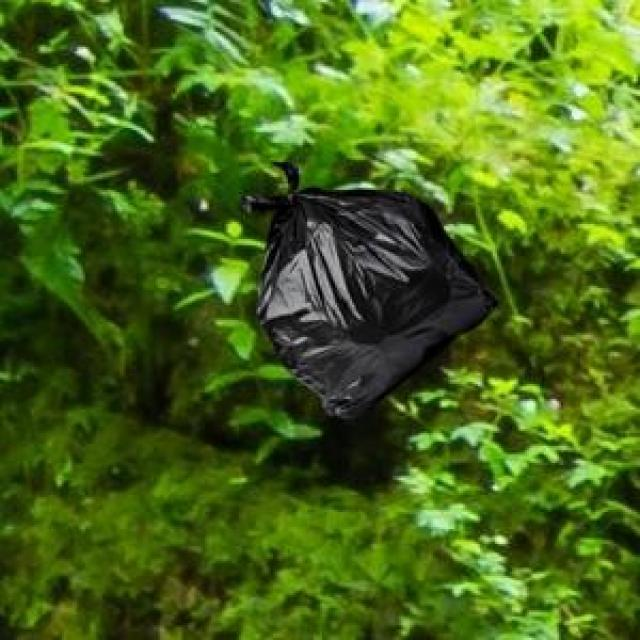miscellaneous trash: (237, 158, 495, 414)
